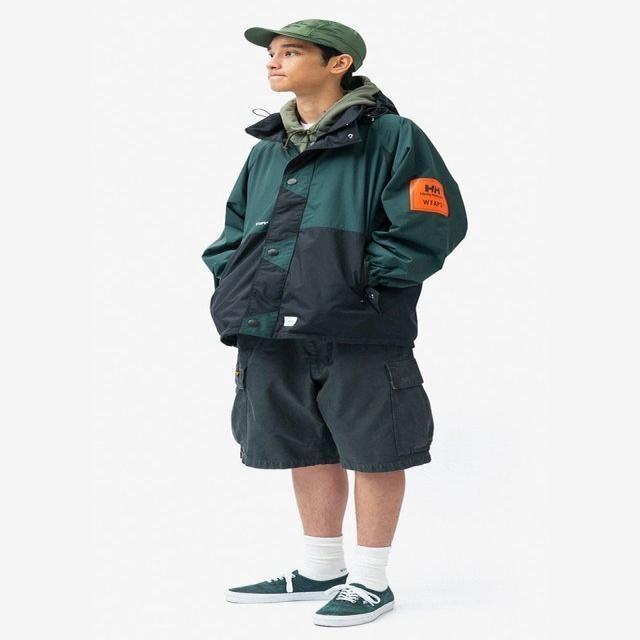person: (201, 18, 469, 628)
